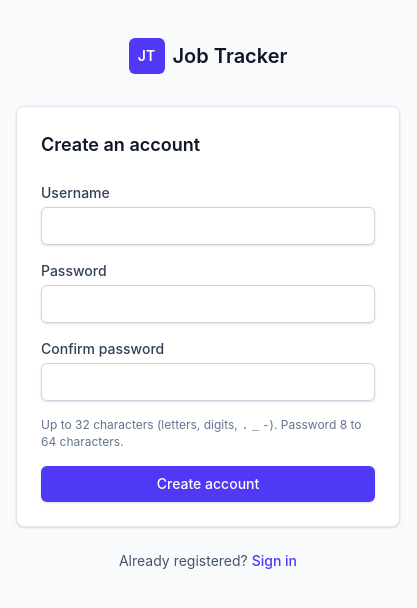
Test: RegisterPage › rejects bad name / password123 / password123 before sending: Username can only include alpha-numeric characters and ., _ and -.
The image size is (417, 608).
Type "bad name" into the field labelled "Username". click: (208, 226)
box: 41,206 -> 375,244
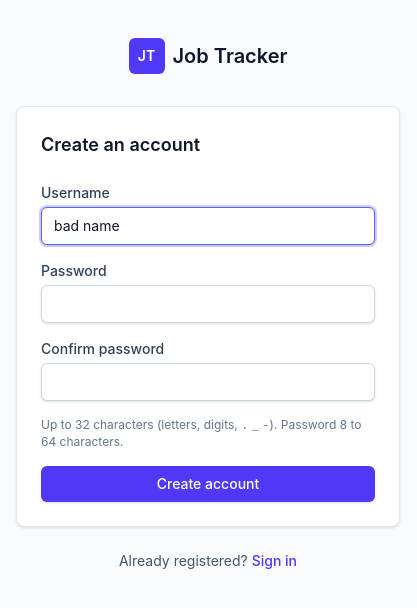
Type "password123" into the password field labelled "Password". click: (208, 304)
box: 41,284 -> 375,322
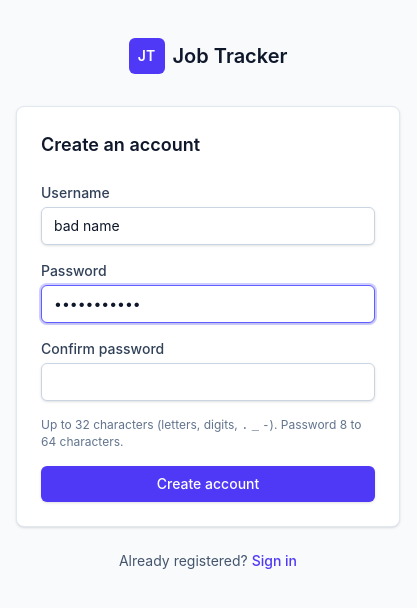
Type "password123" into the password field labelled "Confirm password". click: (208, 382)
box: 41,362 -> 375,400
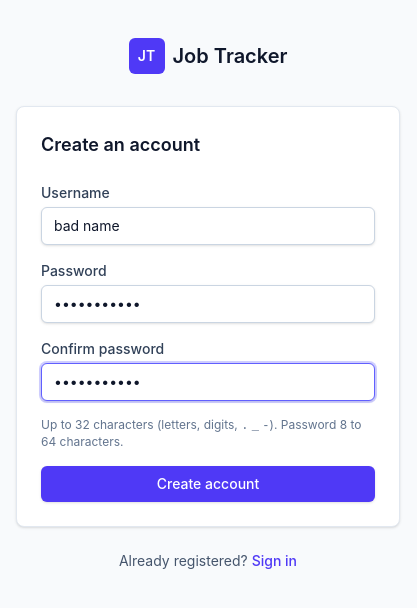
Click the button "Create account". click: (208, 484)
box: 41,466 -> 375,502
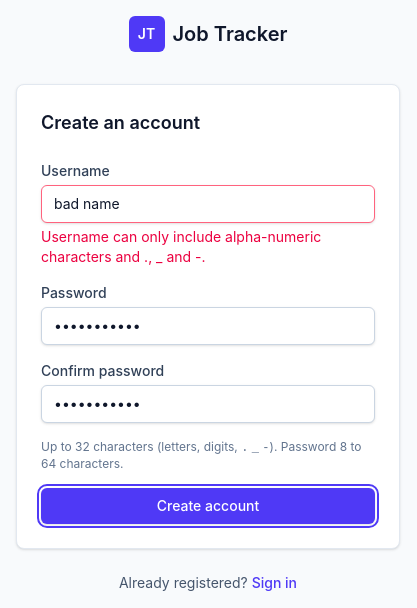
Now the text "Username can only include alpha-numeric characters and ., _ and -." is shown, box 41,228 -> 321,264
